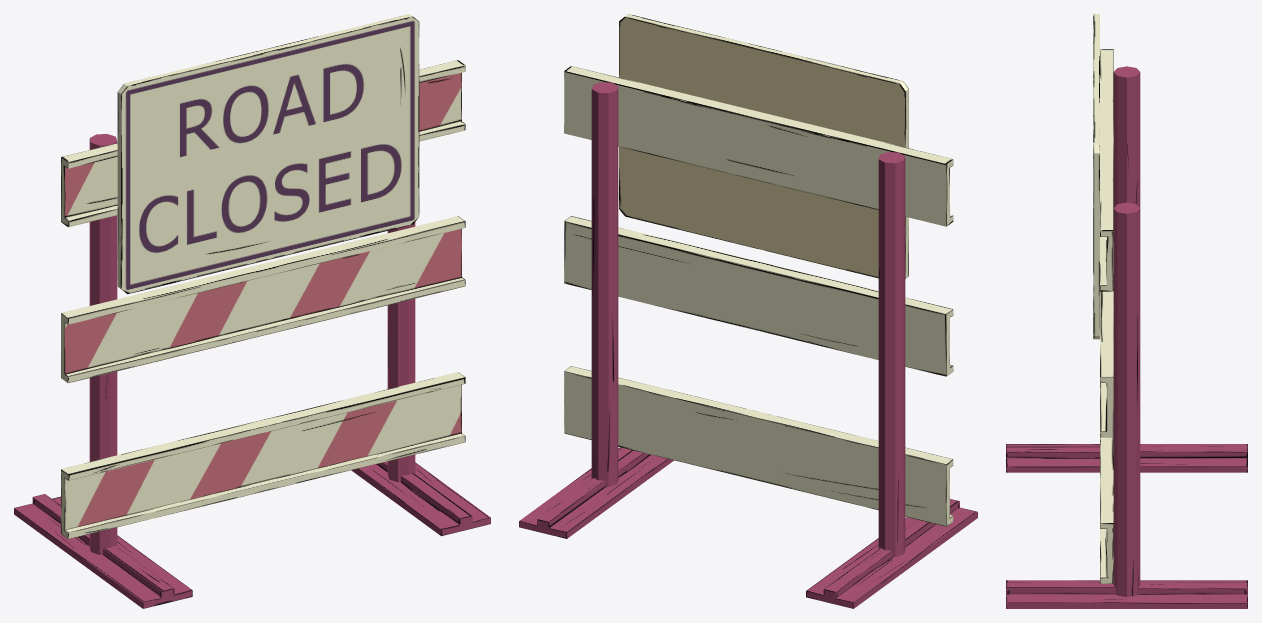
Rendered from road_barrier.fbx.
The picture shows the model from 3 angles, left to right: view 1: azimuth 30°, elevation 25°; view 2: azimuth 150°, elevation 25°; view 3: azimuth 270°, elevation 25°; orthographic projection. The views are drawn at different scales.
Visible parts, largest first — view 1: road_barrier; view 2: road_barrier; view 3: road_barrier.
Boxes of the visible parts, x1,y1,x2,y2 form: road_barrier: [14, 14, 490, 608]; road_barrier: [519, 14, 977, 608]; road_barrier: [1006, 14, 1247, 608].
Bounding box in the file's own units: 160 × 185 × 90.
